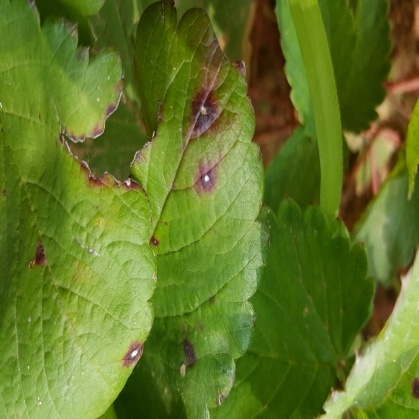Leaf_Spot: (101, 0, 418, 418), (131, 0, 305, 418)
